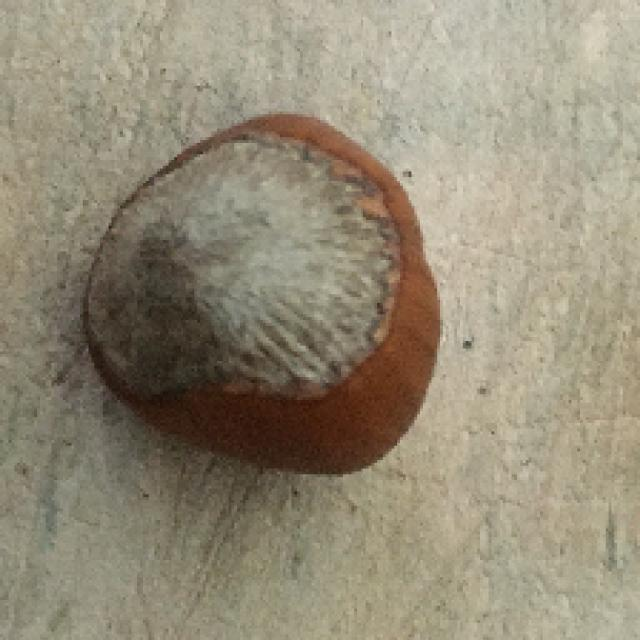QualityHazelnut: (80, 110, 442, 474)
